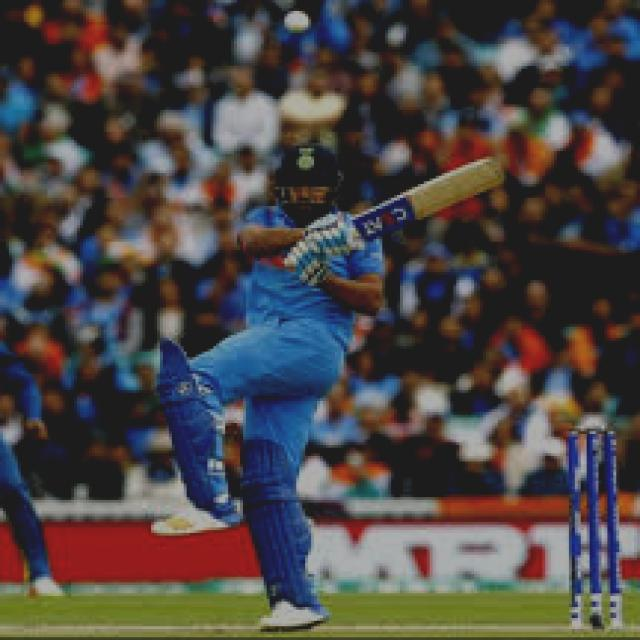toe: (468, 150, 519, 197)
